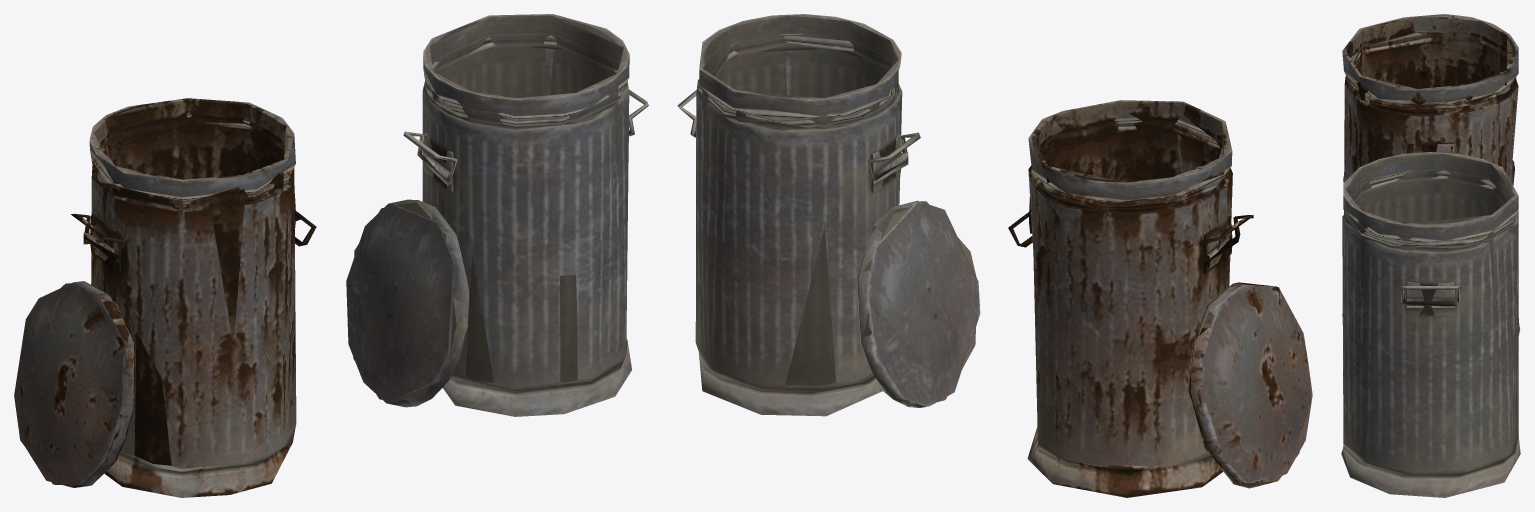
File: metal_trash_can.glb
The picture shows the model from 3 angles, left to right: view 1: azimuth 30°, elevation 25°; view 2: azimuth 150°, elevation 25°; view 3: azimuth 270°, elevation 25°; orthographic projection. The views are drawn at different scales.
Visible parts, largest first — view 1: metal_trash_can, metal_trash_can_rust, metal_trash_can_lid, metal_trash_can_rust_lid; view 2: metal_trash_can, metal_trash_can_rust, metal_trash_can_lid, metal_trash_can_rust_lid; view 3: metal_trash_can, metal_trash_can_rust, metal_trash_can_handle_right.
Part boxes in pixels (x1,y1,x2,y2): metal_trash_can: [422, 14, 631, 416]; metal_trash_can_rust: [83, 98, 304, 497]; metal_trash_can_lid: [346, 199, 469, 407]; metal_trash_can_rust_lid: [14, 281, 135, 487]; metal_trash_can: [695, 14, 908, 416]; metal_trash_can_rust: [1027, 100, 1232, 497]; metal_trash_can_lid: [856, 200, 980, 407]; metal_trash_can_rust_lid: [1188, 282, 1312, 488]; metal_trash_can: [1341, 152, 1520, 497]; metal_trash_can_rust: [1342, 14, 1518, 315]; metal_trash_can_handle_right: [1401, 285, 1460, 306].
Size of the model in its own units: 1.77 by 0.9062 by 0.5446.
2 materials, 2 textured.
